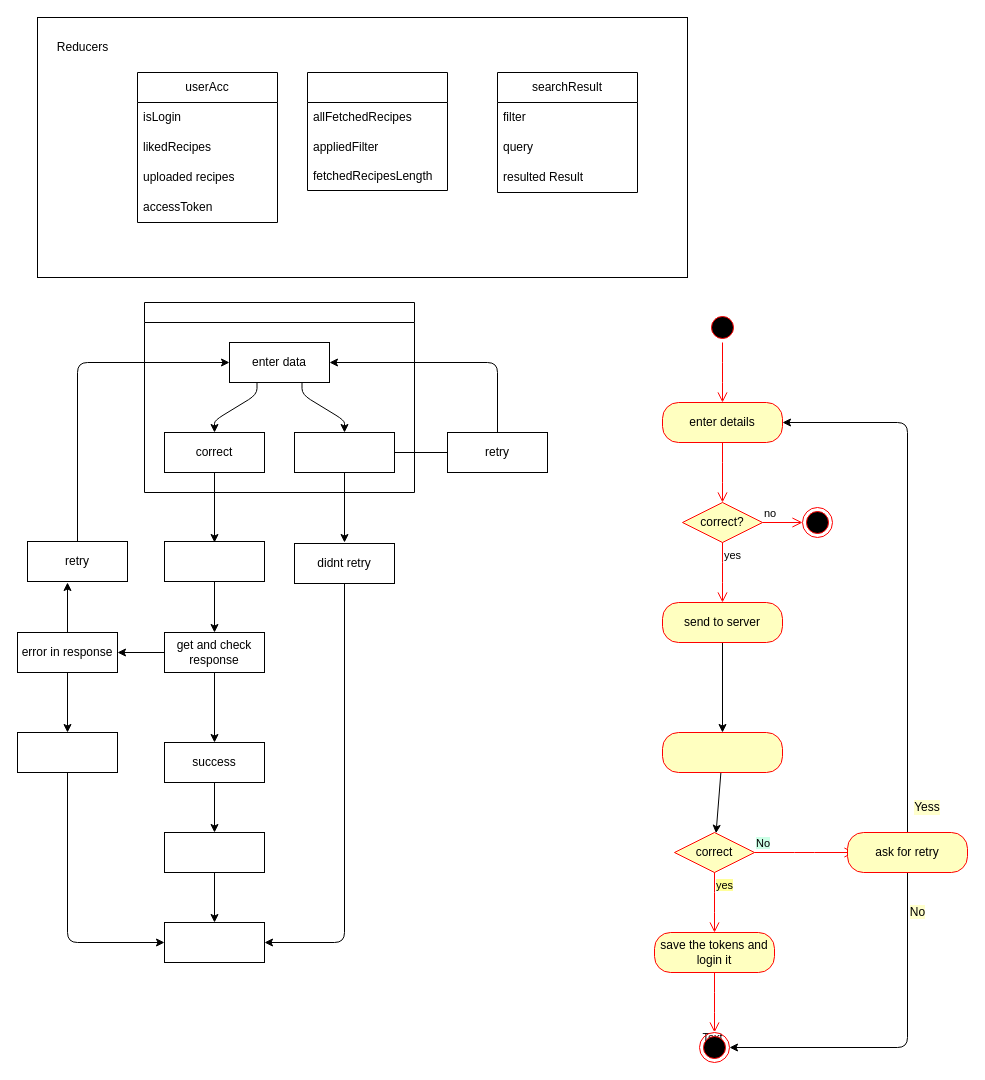
Image size: 985x1080. Some labels were removed from this diagram. The box of each missing label's shape, as (x1, y1, x2, y2) in pixels:
check response: (662, 732, 782, 772)
didn't retry: (16, 732, 118, 772)
exit: (164, 922, 264, 962)
general: (306, 72, 448, 190)
not correct: (294, 432, 394, 472)
send details while showing loading: (164, 540, 264, 582)
send it to the login page: (164, 832, 264, 872)
user registeration: (144, 302, 414, 492)
